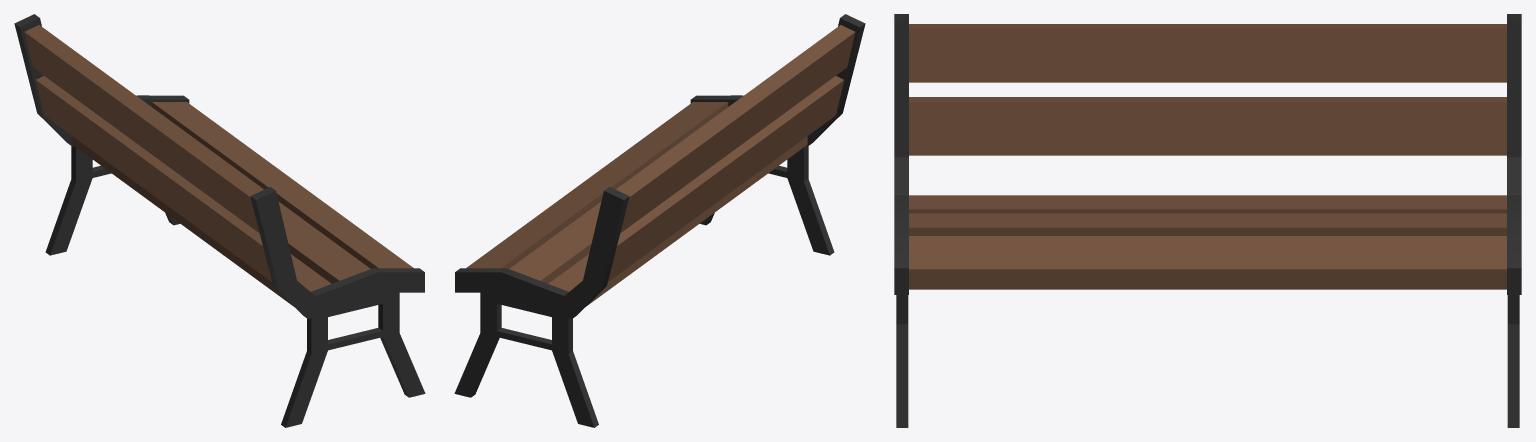
The model's file is outside_bench_01.fbx.
3 renders of one model, left to right at view 1: azimuth 30°, elevation 25°; view 2: azimuth 150°, elevation 25°; view 3: azimuth 270°, elevation 25°, orthographic. The views are drawn at different scales.
Parts seen in each view (by area): view 1: outside_bench_01; view 2: outside_bench_01; view 3: outside_bench_01.
Boxes of the visible parts, x1,y1,x2,y2 form: outside_bench_01: (14, 14, 425, 427); outside_bench_01: (454, 14, 865, 427); outside_bench_01: (894, 14, 1521, 427).
Size of the model in its own units: 106 by 143 by 260.
